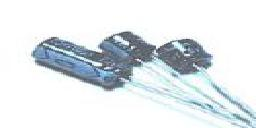Electrolytic Capacitor: (26, 37, 138, 107), (156, 35, 213, 77), (99, 29, 160, 67)
